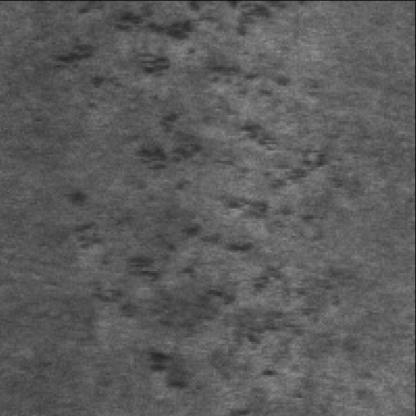rolled-in_scale: (92, 6, 312, 391), (121, 226, 335, 406)
